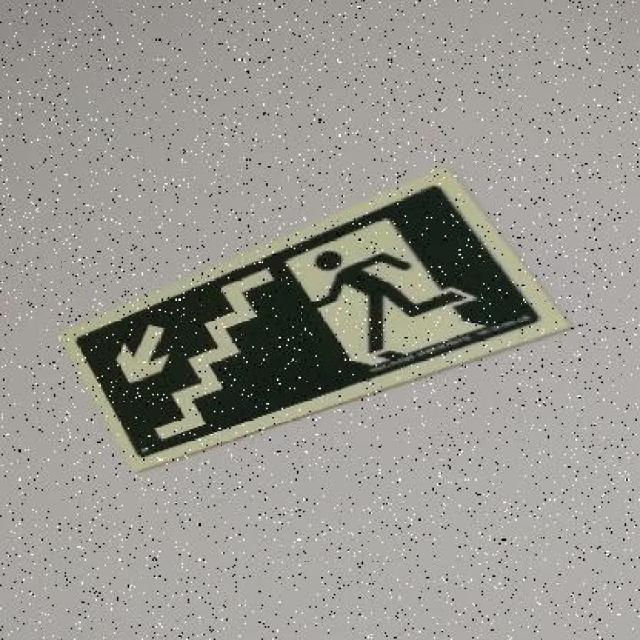exit_sign: (43, 143, 580, 496)
